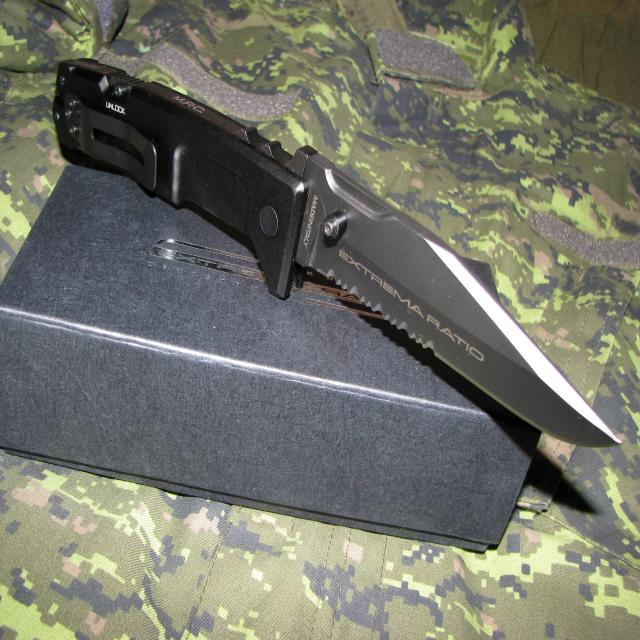knife: (56, 52, 628, 458)
